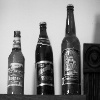beer: (30, 20, 57, 97)
